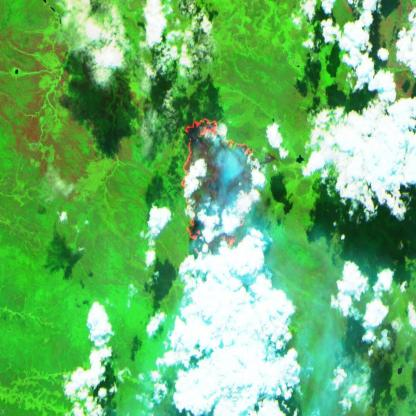fire: (179, 118, 263, 258)
